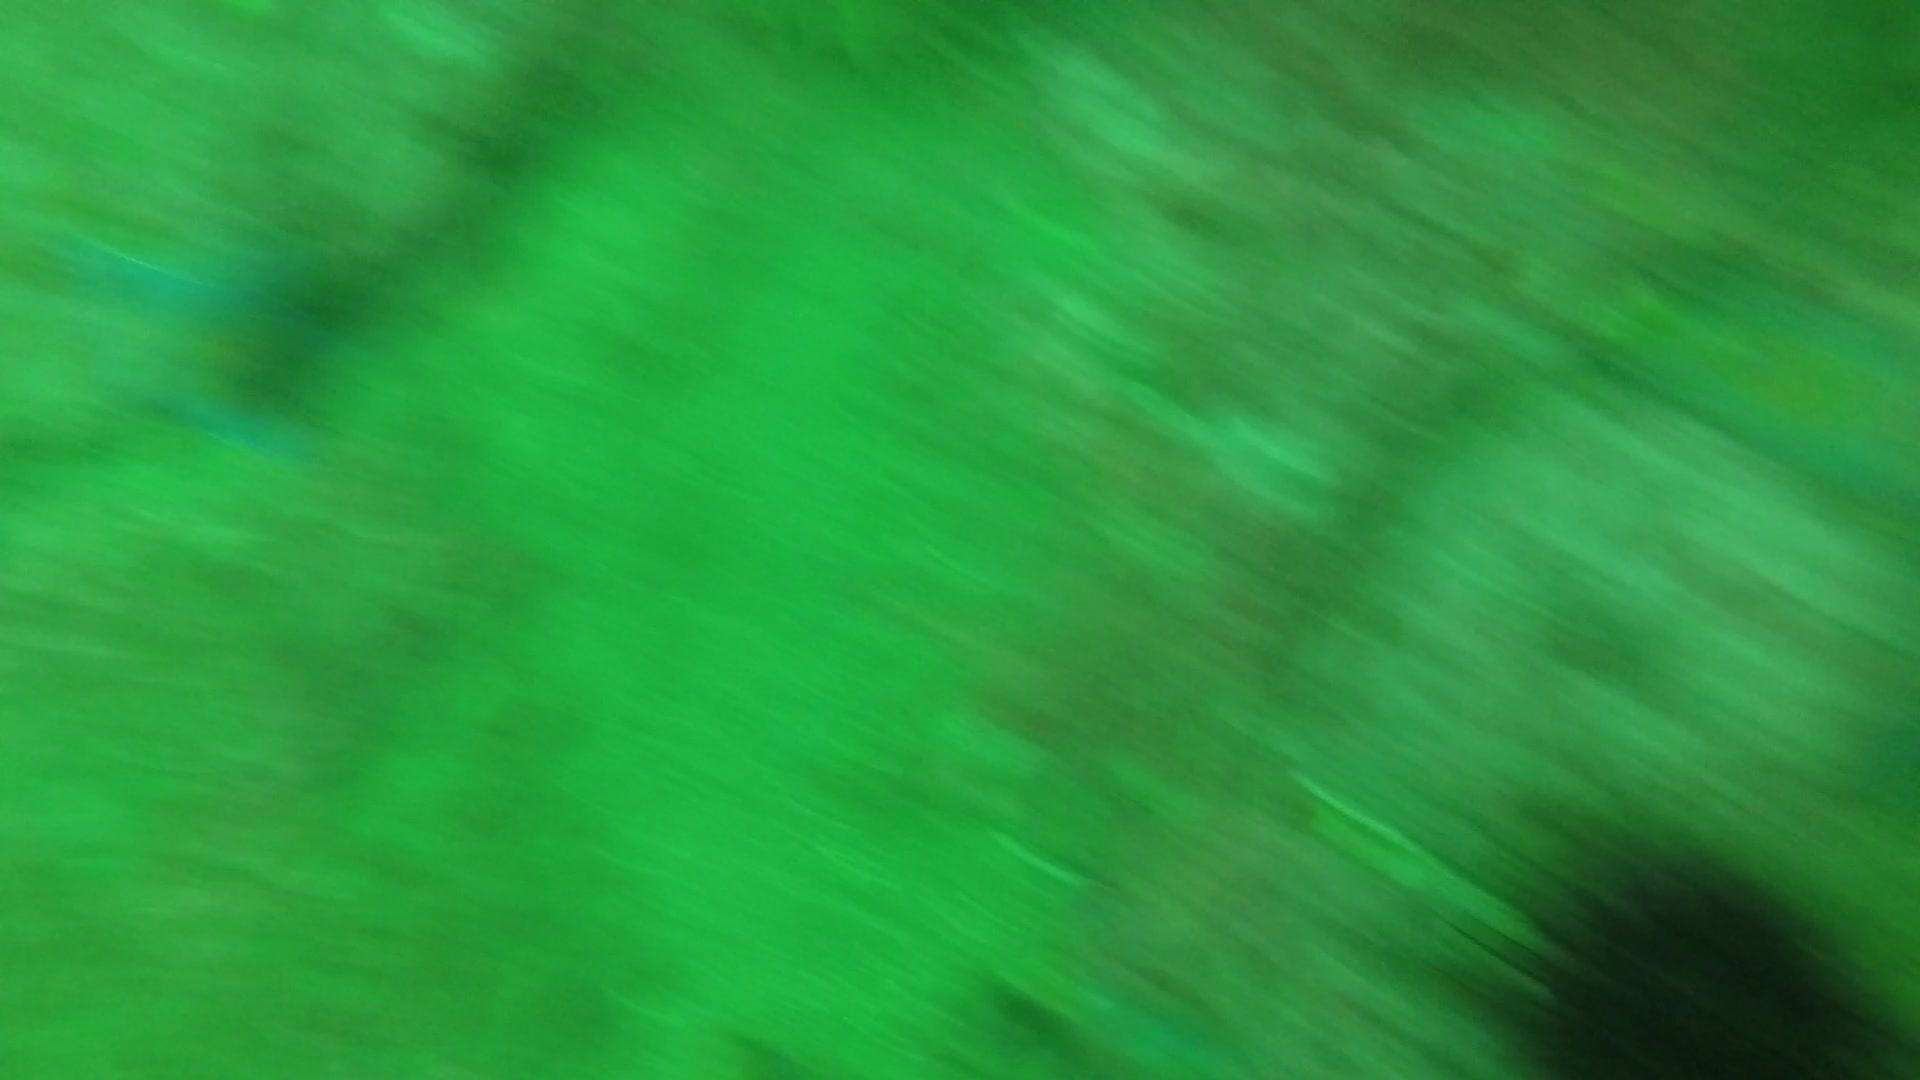echinus: (1445, 818, 1902, 1073)
starfish: (18, 198, 364, 459), (1621, 262, 1919, 524)
